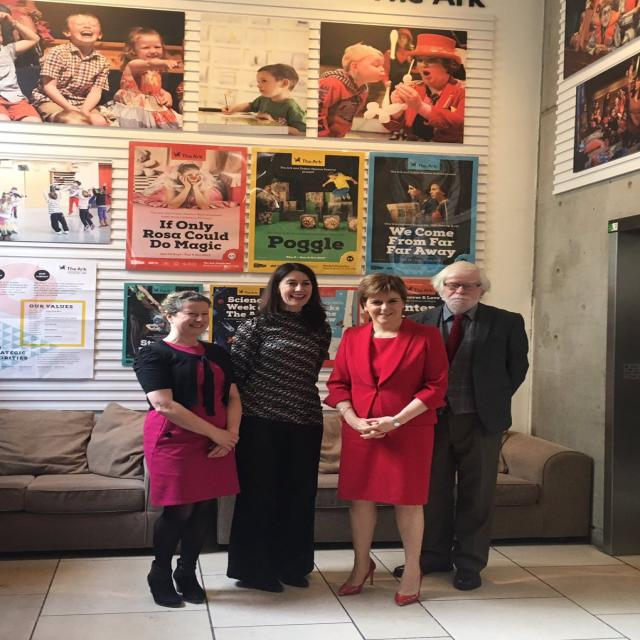body: (0, 0, 472, 142), (386, 258, 531, 595), (314, 270, 454, 608), (0, 152, 470, 246), (215, 261, 333, 597), (129, 289, 249, 609), (557, 0, 639, 174)
